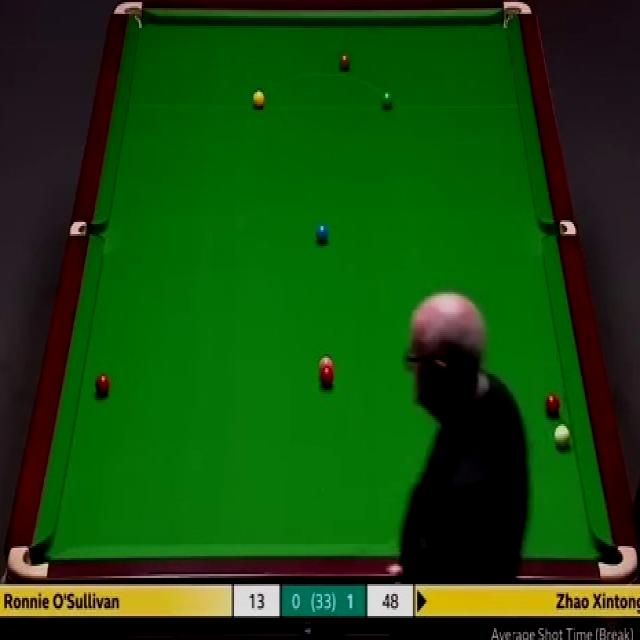blue-ball: (315, 222, 330, 244)
brown-ball: (338, 52, 351, 72)
green-ball: (380, 89, 393, 110)
pink-ball: (318, 356, 334, 370)
red-ball: (95, 372, 111, 398), (544, 394, 562, 416), (318, 367, 335, 388)
white-ball: (552, 423, 570, 448)
yellow-ball: (254, 91, 267, 111)
